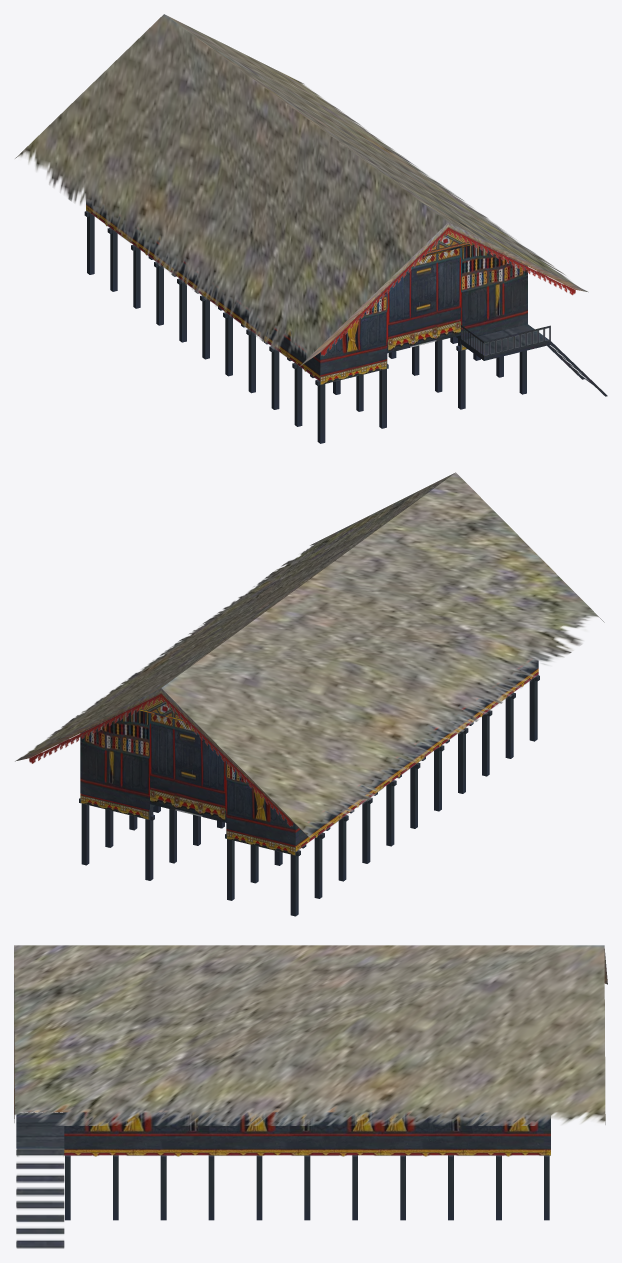
File: krong-bade.glb
3 renders of one model, top to bottom at view 1: azimuth 30°, elevation 25°; view 2: azimuth 150°, elevation 25°; view 3: azimuth 270°, elevation 25°, orthographic. The views are drawn at different scales.
Visible parts, largest first — view 1: Cube.001_rumoh aceh_0; view 2: Cube.001_rumoh aceh_0; view 3: Cube.001_rumoh aceh_0.
Part boxes in pixels (x1,y1,x2,y2): Cube.001_rumoh aceh_0: [15, 14, 607, 443]; Cube.001_rumoh aceh_0: [15, 472, 604, 916]; Cube.001_rumoh aceh_0: [14, 945, 607, 1248].
Bounding box in the file's own units: 12.89 × 8.55 × 20.66.
2 materials, 1 textured.
